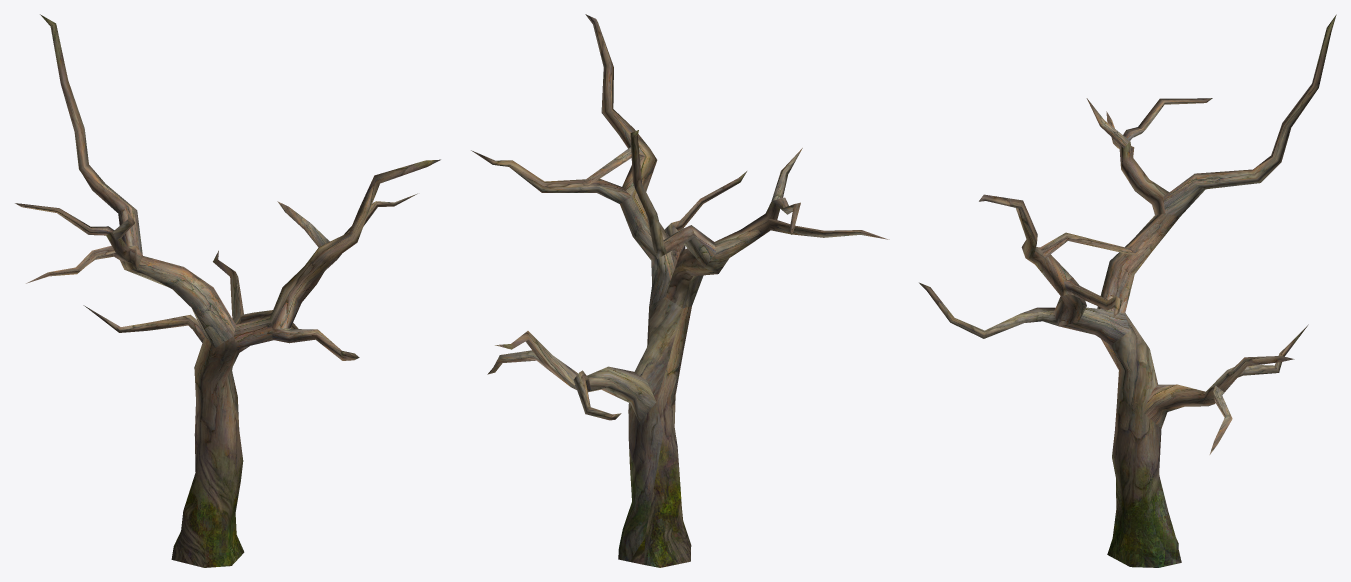
The model's file is shi_gan_04.FBX.
The picture shows the model from 3 angles, left to right: view 1: azimuth 30°, elevation 25°; view 2: azimuth 150°, elevation 25°; view 3: azimuth 270°, elevation 25°; orthographic projection. The views are drawn at different scales.
Parts seen in each view (by area): view 1: shi_gan_04; view 2: shi_gan_04; view 3: shi_gan_04.
Part boxes in pixels (x1,y1,x2,y2): shi_gan_04: (15,14,440,567); shi_gan_04: (471,14,889,567); shi_gan_04: (919,14,1336,567).
Size of the model in its own units: 48.58 by 57.19 by 43.23.
